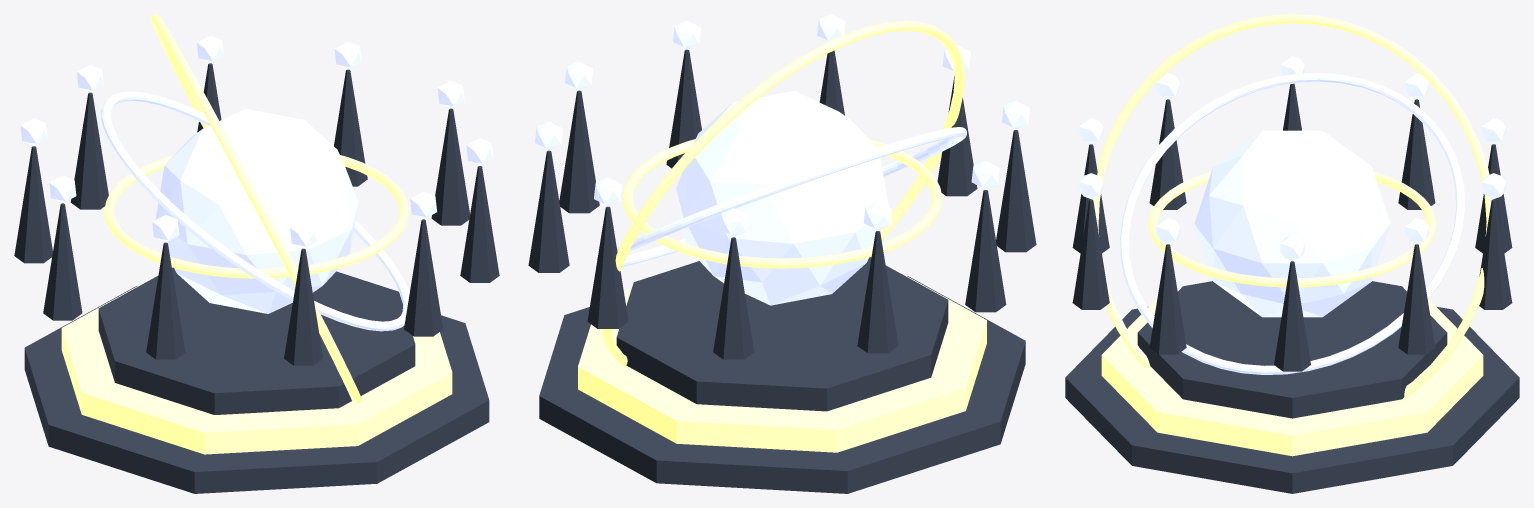
Rendered from gpu-blender-v45.glb.
The picture shows the model from 3 angles, left to right: view 1: azimuth 30°, elevation 25°; view 2: azimuth 150°, elevation 25°; view 3: azimuth 270°, elevation 25°; orthographic projection. The views are drawn at different scales.
Visible parts, largest first — view 1: Cylinder.002, SovereignCore_zoth-os-website, Cylinder, Cylinder.001, Torus.001, Torus, Torus.002, Cone.004, Cone.005, Cone.008, Cone.006, Cone.007 (+15 smaller); view 2: Cylinder.002, SovereignCore_zoth-os-website, Cylinder, Cylinder.001, Torus.002, Torus, Torus.001, Cone.004, Cone.005, Cone.006, Cone.003, Cone.001 (+14 smaller); view 3: SovereignCore_zoth-os-website, Cylinder.002, Cylinder, Cylinder.001, Torus.001, Torus.002, Torus, Cone.001, Cone.009, Cone, Cone.008, Cone.002 (+14 smaller).
Boxes of the visible parts, x1,y1,x2,y2 form: Cylinder.002: [98, 267, 415, 414]; SovereignCore_zoth-os-website: [155, 108, 358, 313]; Cylinder: [24, 286, 489, 493]; Cylinder.001: [61, 276, 452, 454]; Torus.001: [101, 91, 409, 331]; Torus: [104, 155, 409, 278]; Torus.002: [150, 14, 361, 403]; Cone.004: [14, 146, 52, 263]; Cone.005: [43, 203, 82, 320]; Cone.008: [404, 219, 443, 336]; Cone.006: [146, 242, 185, 359]; Cone.007: [284, 248, 323, 365]; Cylinder.002: [616, 257, 948, 411]; SovereignCore_zoth-os-website: [676, 90, 888, 305]; Cylinder: [539, 276, 1025, 493]; Cylinder.001: [578, 266, 986, 452]; Torus.002: [601, 20, 964, 366]; Torus: [623, 139, 941, 268]; Torus.001: [617, 127, 966, 266]; Cone.004: [857, 231, 898, 353]; Cone.005: [965, 190, 1006, 312]; Cone.006: [996, 130, 1036, 252]; Cone.003: [713, 237, 754, 359]; Cone.001: [528, 150, 569, 272]; SovereignCore_zoth-os-website: [1194, 130, 1390, 317]; Cylinder.002: [1137, 281, 1447, 418]; Cylinder: [1065, 306, 1519, 493]; Cylinder.001: [1101, 298, 1483, 456]; Torus.001: [1120, 73, 1464, 374]; Torus.002: [1092, 14, 1492, 398]; Torus: [1148, 171, 1436, 287]; Cone.001: [1398, 244, 1435, 354]; Cone.009: [1149, 244, 1186, 354]; Cone: [1274, 261, 1310, 371]; Cone.008: [1072, 199, 1109, 309]; Cone.002: [1479, 199, 1512, 309].
Bounding box in the file's own units: 4.41 × 3.72 × 4.4.
